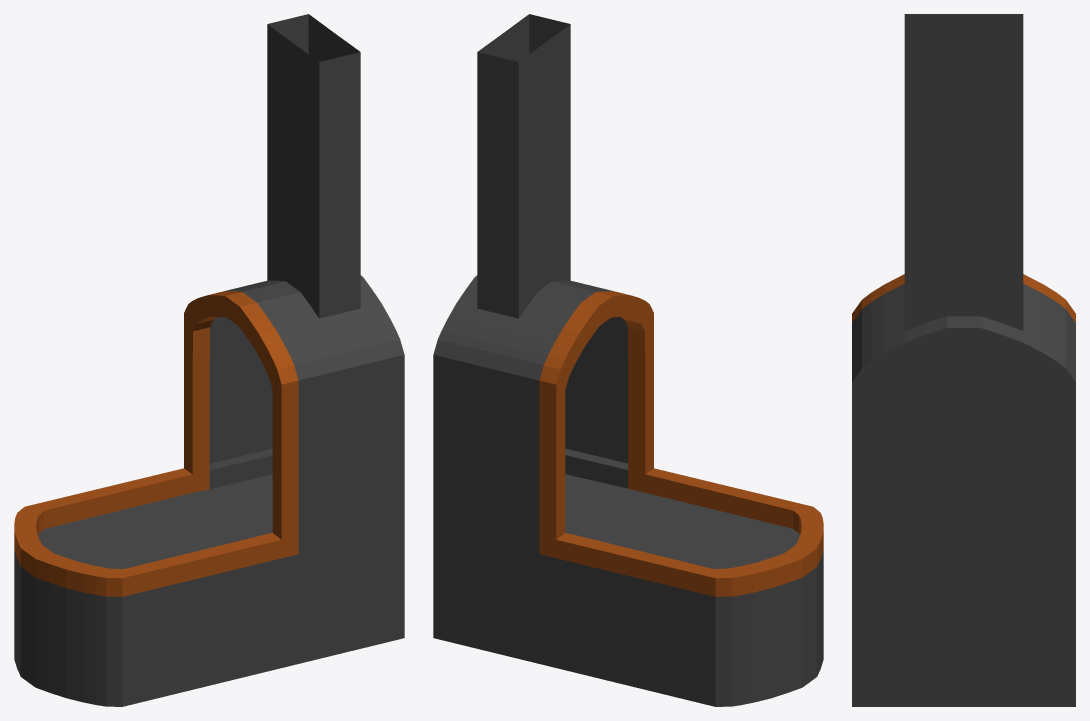
File: Furnace.fbx
The picture shows the model from 3 angles, left to right: view 1: azimuth 30°, elevation 25°; view 2: azimuth 150°, elevation 25°; view 3: azimuth 270°, elevation 25°; orthographic projection. The views are drawn at different scales.
Visible parts, largest first — view 1: Furnace; view 2: Furnace; view 3: Furnace.
Part boxes in pixels (bbox=[...]): Furnace: bbox=[14, 14, 404, 706]; Furnace: bbox=[433, 14, 823, 706]; Furnace: bbox=[852, 14, 1075, 706].
Bounding box in the file's own units: 201 × 337 × 104.
